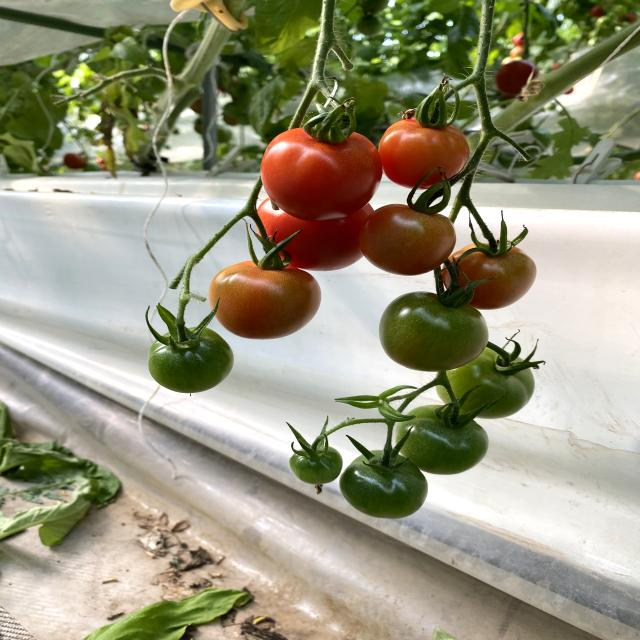ripe2: (262, 125, 381, 220), (382, 117, 470, 191)
